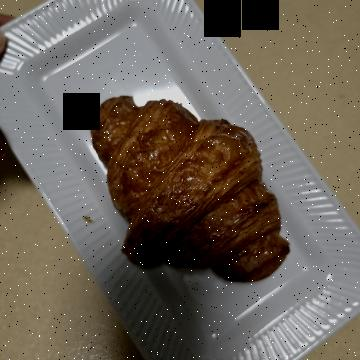croissant: (81, 58, 302, 270)
